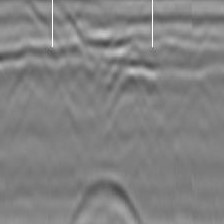Utility: (69, 172, 142, 224)
